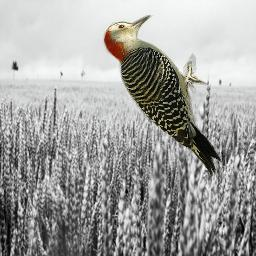Woodpecker: (100, 15, 224, 176)
